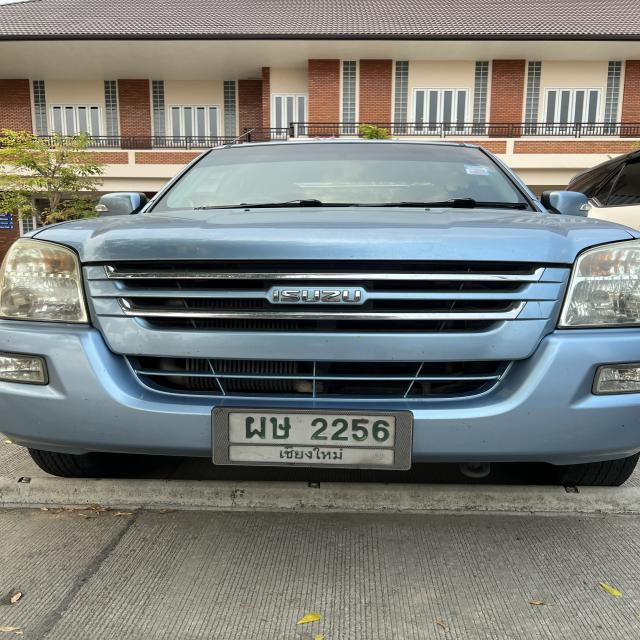license_plate: (211, 405, 419, 472)
